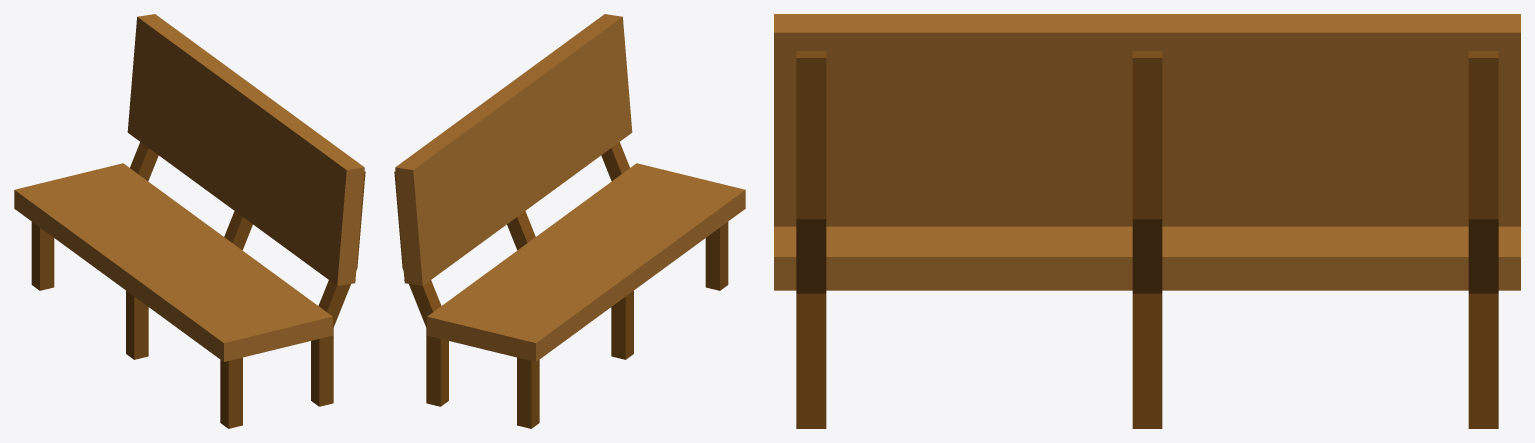
The model's file is bench_01.fbx.
3 renders of one model, left to right at view 1: azimuth 30°, elevation 25°; view 2: azimuth 150°, elevation 25°; view 3: azimuth 270°, elevation 25°, orthographic. The views are drawn at different scales.
Visible parts, largest first — view 1: bench_01; view 2: bench_01; view 3: bench_01.
Boxes of the visible parts, x1=… form: bench_01: x1=14, y1=14, x2=365, y2=428; bench_01: x1=394, y1=14, x2=745, y2=428; bench_01: x1=774, y1=14, x2=1520, y2=428.
Size of the model in its own units: 0.8151 by 1.24 by 2.
